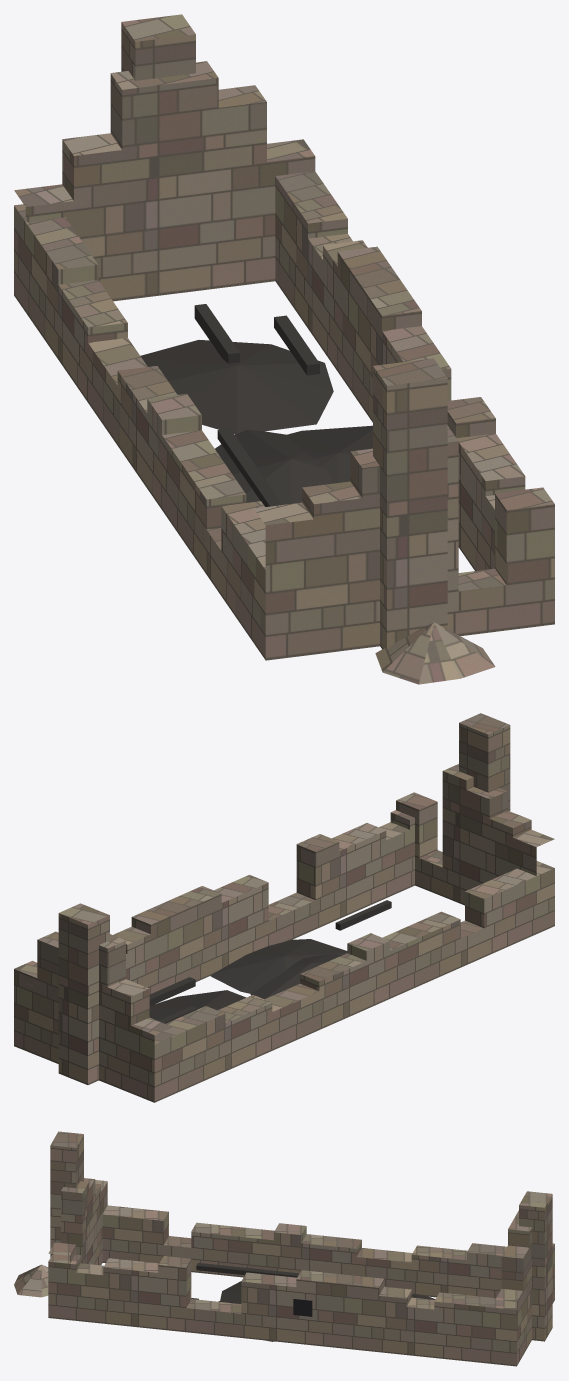
The picture shows the model from 3 angles, top to bottom: view 1: azimuth 30°, elevation 25°; view 2: azimuth 150°, elevation 25°; view 3: azimuth 270°, elevation 25°; orthographic projection. The views are drawn at different scales.
Visible parts, largest first — view 1: b001087_ruin_wall, b001087_ruin_char; view 2: b001087_ruin_wall, b001087_ruin_char; view 3: b001087_ruin_wall, b001087_ruin_char, b001087_ruin_glass.
Part boxes in pixels (<box>): b001087_ruin_wall: <box>14,14,554,684</box>; b001087_ruin_char: <box>140,304,372,506</box>; b001087_ruin_wall: <box>14,713,554,1102</box>; b001087_ruin_char: <box>149,900,391,1023</box>; b001087_ruin_wall: <box>14,1131,554,1366</box>; b001087_ruin_char: <box>191,1263,435,1341</box>; b001087_ruin_glass: <box>293,1299,312,1316</box>.
Bounding box in the file's own units: 7.65 × 4.5 × 15.21.
Materials: 3 (1 with a texture image).
